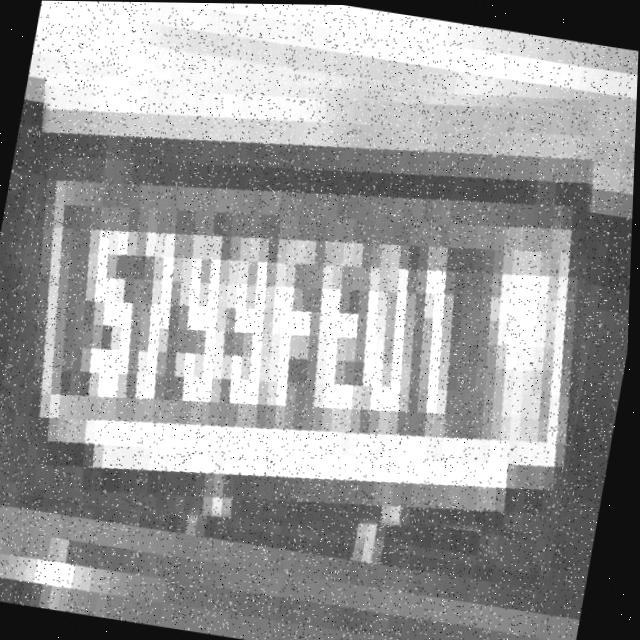LicensePlate: (0, 31, 634, 575)
